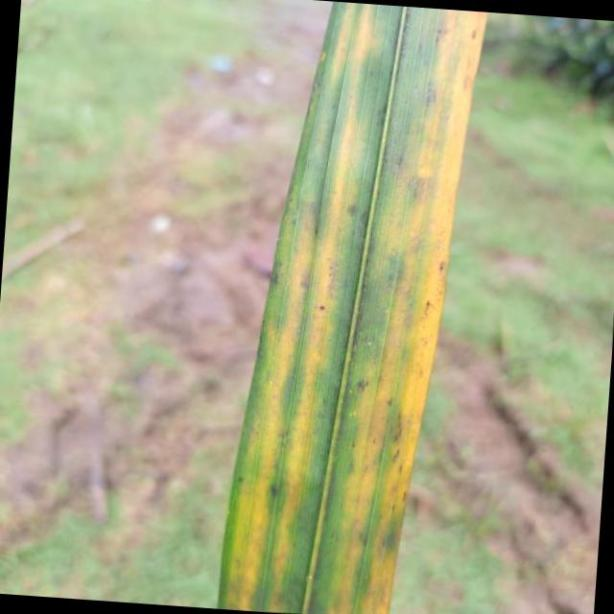Megnesium: (213, 0, 489, 614)
